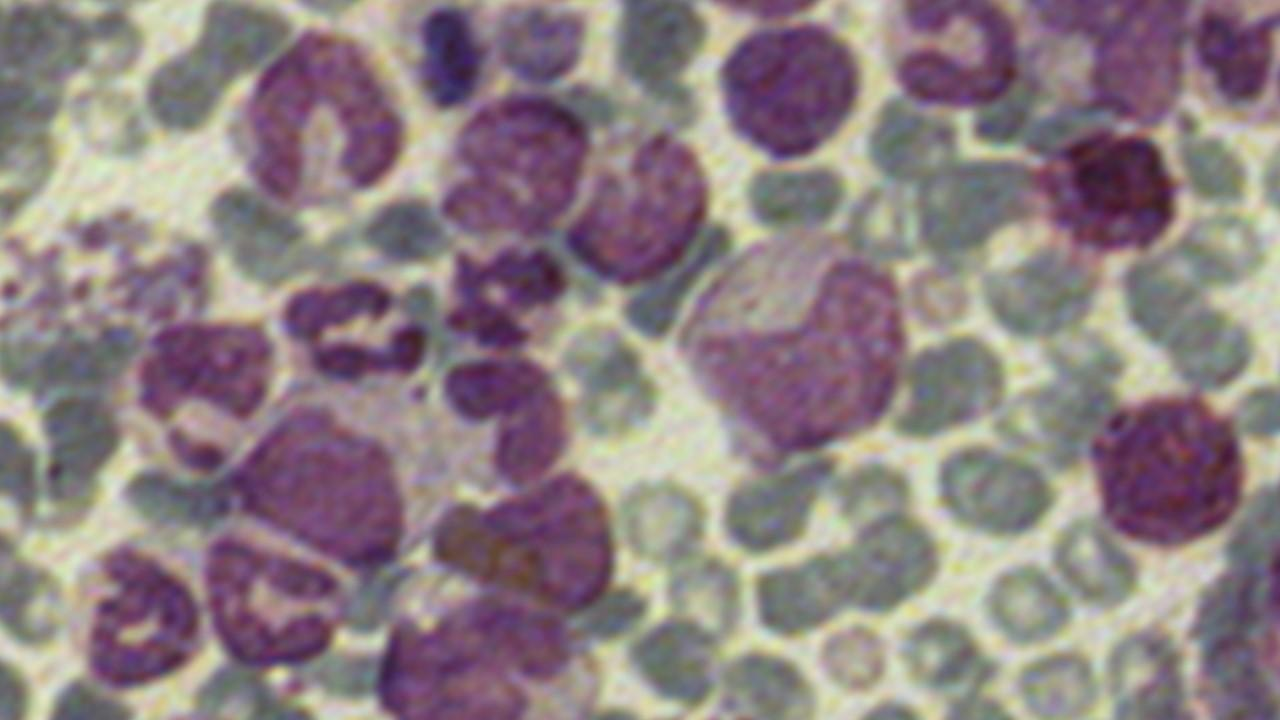RBC: (981, 557, 1075, 649)
